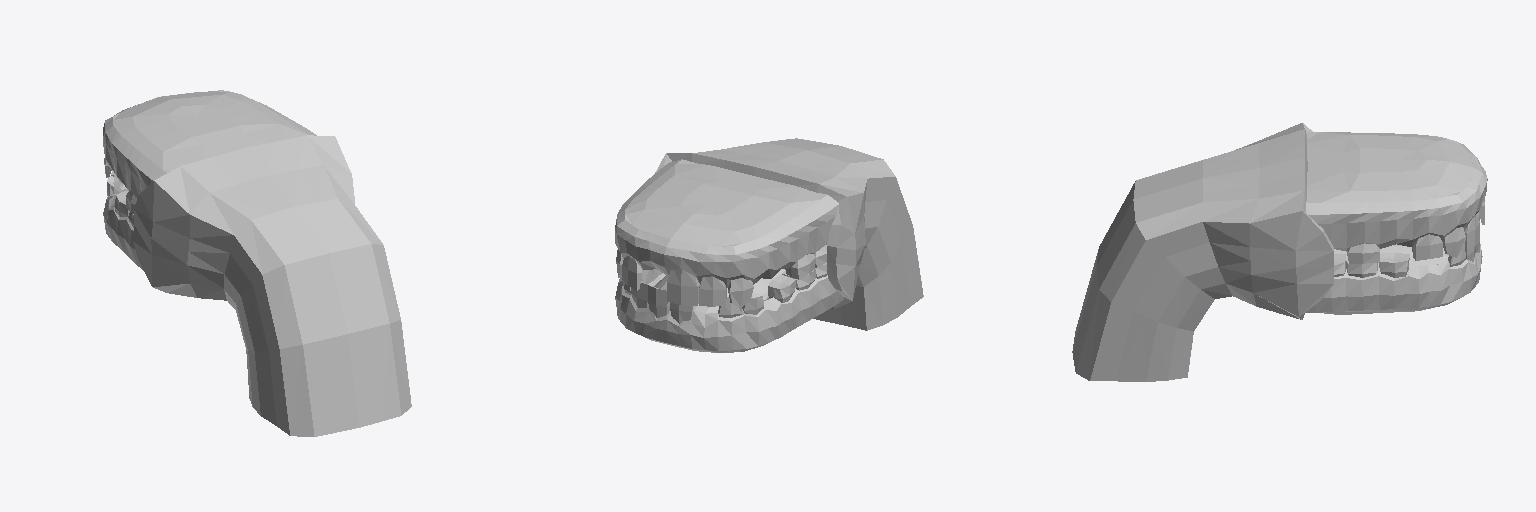
Rendered from Human Denture - with Missing Teeth.obj.
3 renders of one model, left to right at view 1: azimuth 30°, elevation 25°; view 2: azimuth 150°, elevation 25°; view 3: azimuth 270°, elevation 25°, orthographic.
Parts seen in each view (by area): view 1: HwMT_-_Throat, HwMT_-_Upper_Jaw, HwMT_-_Lower_Jaw; view 2: HwMT_-_Upper_Jaw, HwMT_-_Throat, HwMT_-_Lower_Jaw, HwMT_-_Tongue; view 3: HwMT_-_Throat, HwMT_-_Upper_Jaw, HwMT_-_Lower_Jaw, HwMT_-_Tongue.
Boxes of the visible parts, box(x1,y1,x2,y2) form: HwMT_-_Throat: box(133, 135, 411, 436); HwMT_-_Upper_Jaw: box(103, 90, 316, 213); HwMT_-_Lower_Jaw: box(103, 170, 143, 270); HwMT_-_Upper_Jaw: box(615, 159, 838, 307); HwMT_-_Throat: box(655, 138, 923, 330); HwMT_-_Lower_Jaw: box(615, 263, 843, 352); HwMT_-_Tongue: box(654, 269, 785, 313); HwMT_-_Throat: box(1072, 123, 1333, 381); HwMT_-_Upper_Jaw: box(1306, 132, 1487, 263); HwMT_-_Lower_Jaw: box(1305, 212, 1482, 314); HwMT_-_Tongue: box(1334, 244, 1448, 266).
Bounding box in the file's own units: 0.1085 × 0.1057 × 0.2023.